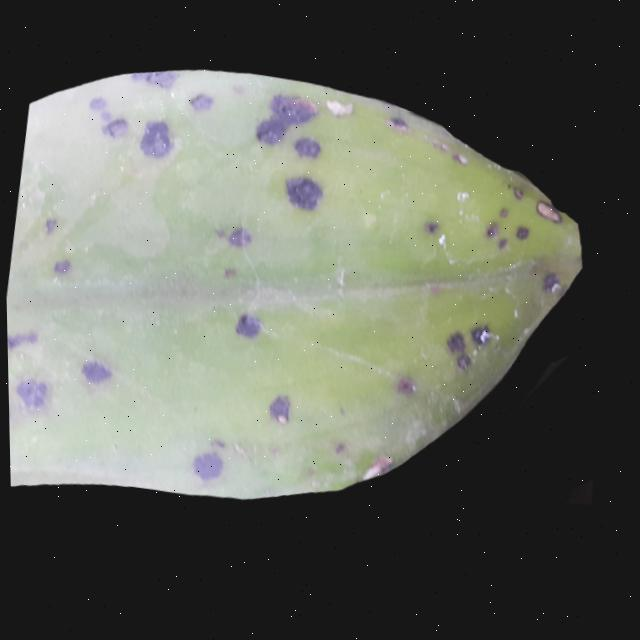mite: (476, 176, 566, 262), (477, 202, 534, 256), (135, 116, 176, 161), (289, 133, 323, 161), (415, 214, 444, 241), (441, 329, 468, 357), (507, 218, 534, 246), (465, 322, 492, 349), (537, 269, 562, 295), (481, 219, 501, 240), (420, 218, 440, 236), (511, 223, 530, 241), (508, 183, 525, 201), (493, 234, 509, 252), (495, 204, 510, 219)
sunburn: (5, 38, 600, 586)
